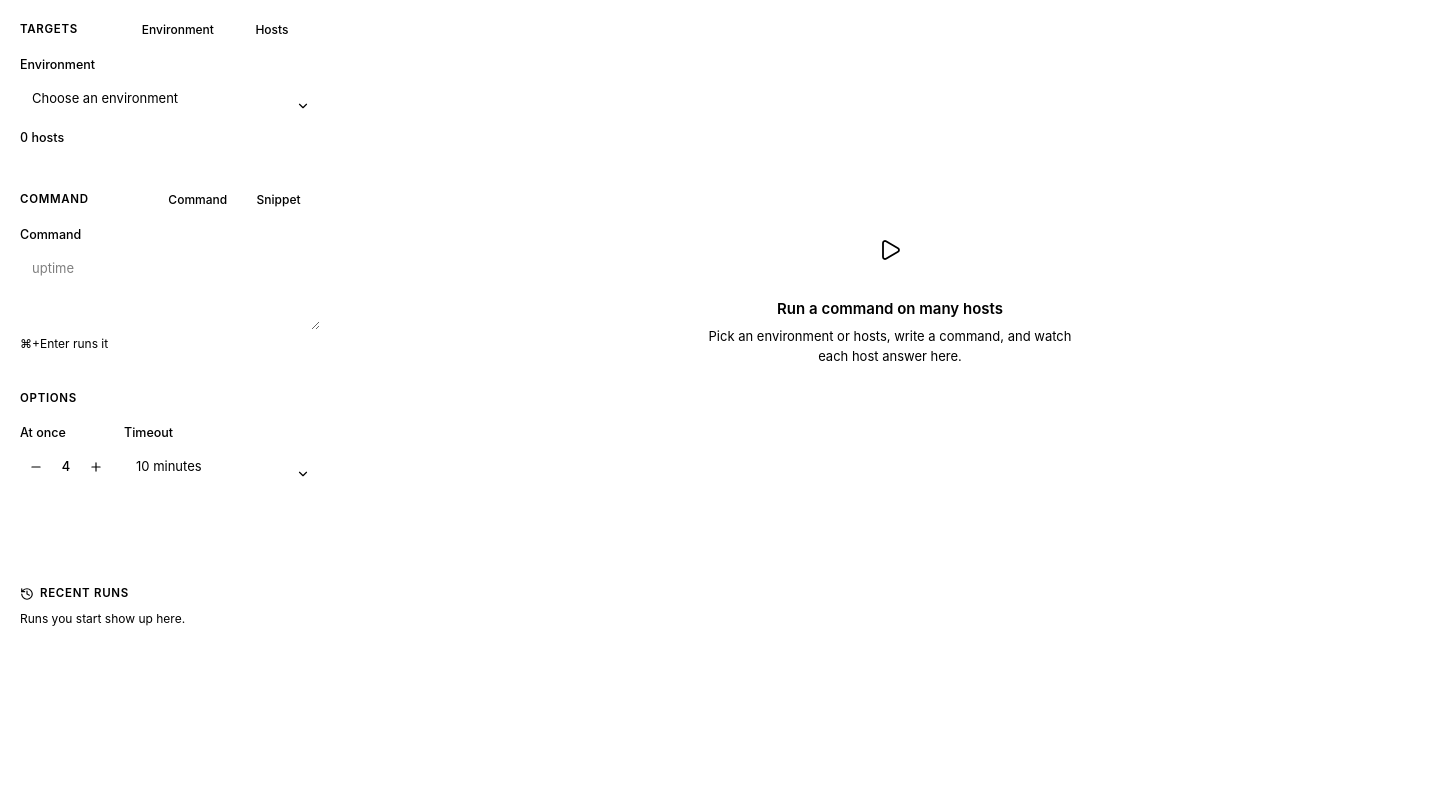
it: run tab › picking an environment and role previews matching hosts
Select "prod (protected)" in the dropdown labelled "Environment" at (170,99), box [20,81,320,117]
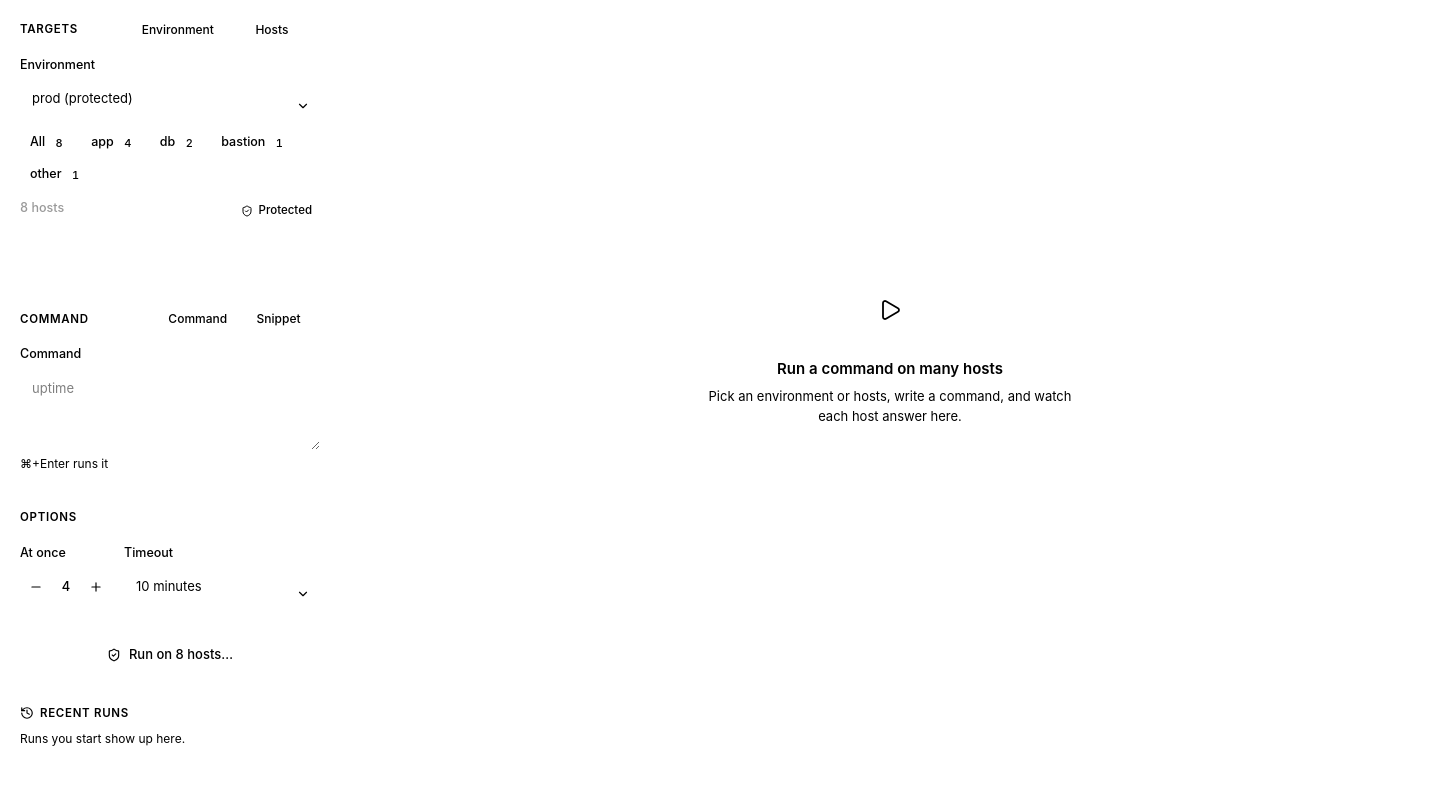
Click the button "db 2".
click(178, 143)  # box [150,129,207,157]
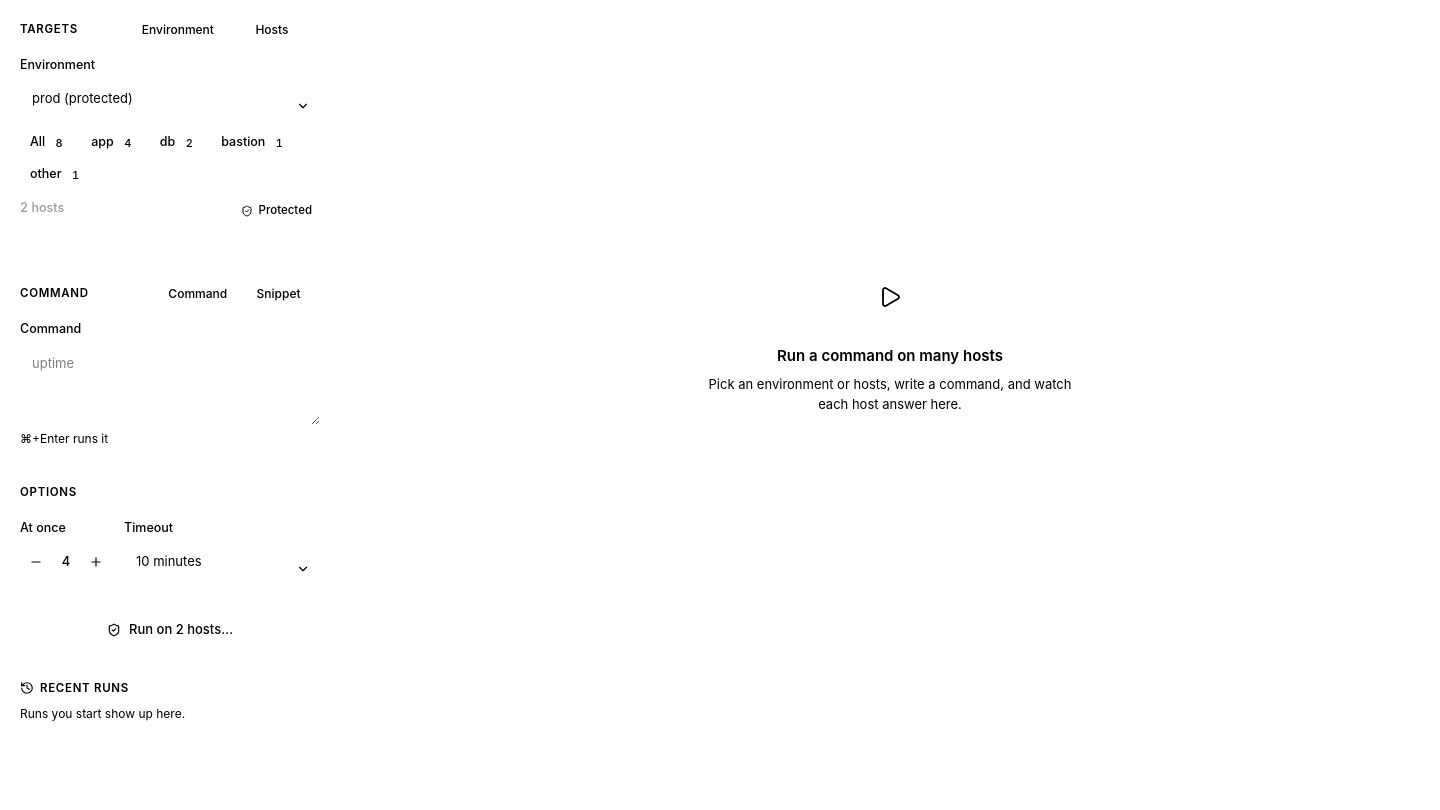
expect the button "app 4" is shown: met, box [81,129,146,157]
expect the button "bastion 1" is shown: met, box [211,129,297,157]
expect the text "2 hosts" is shown: met, box [20,199,64,218]
Select "staging" in the dropdown labelled "Environment" at (170,99), box [20,81,320,117]
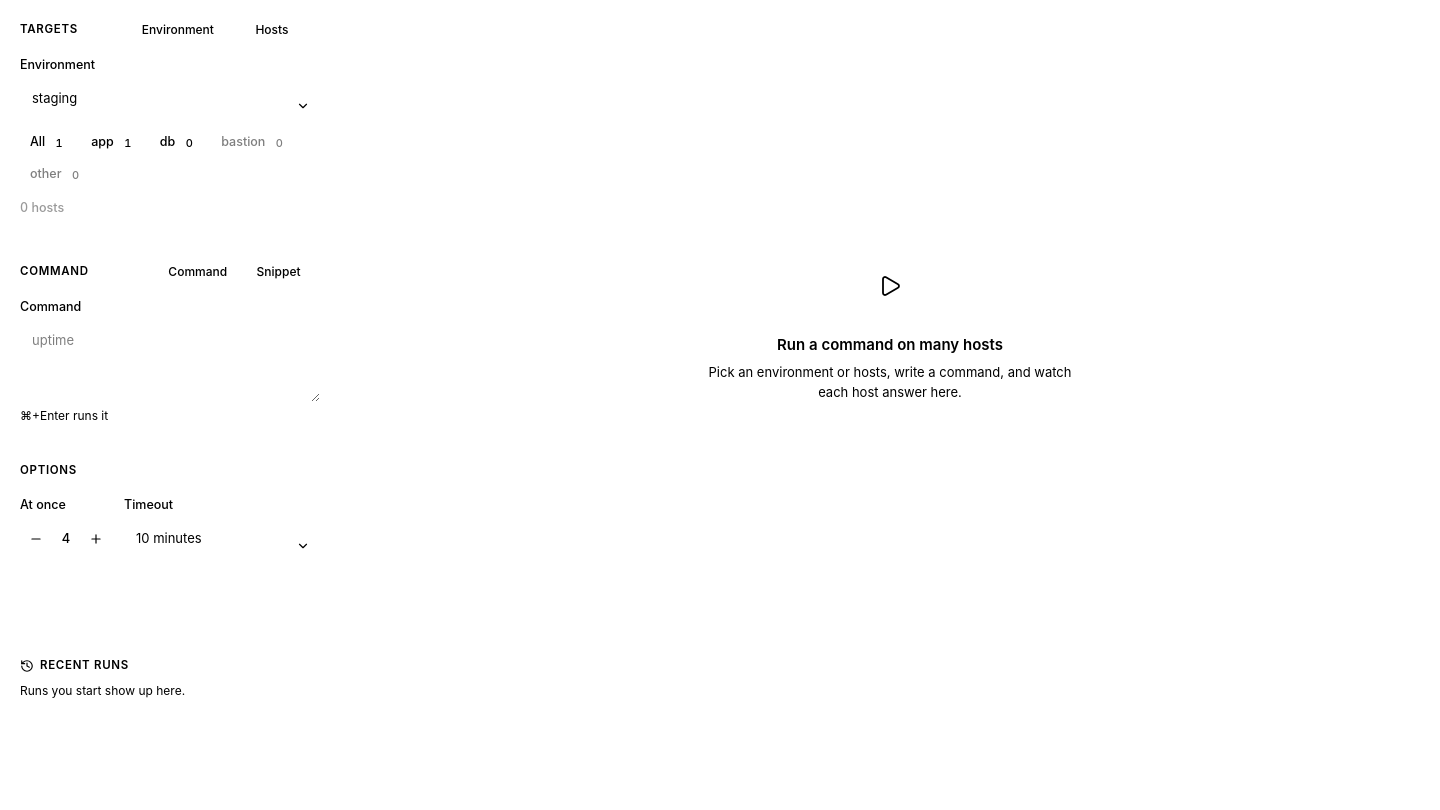
Click the button "All 1".
click(49, 143)  # box [20,129,77,157]
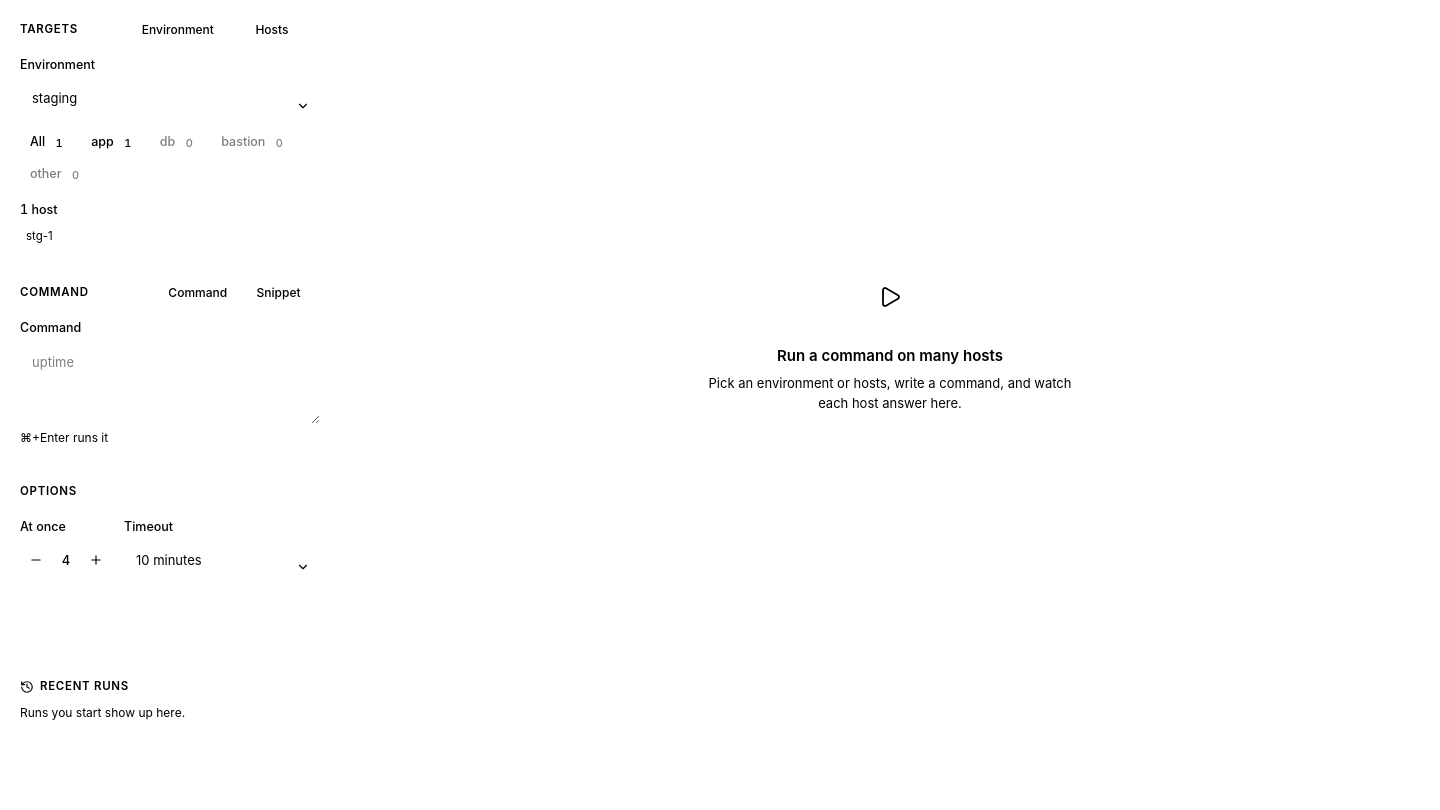
expect the list items read "stg-1", in this order: met, box [20,226,59,247]
